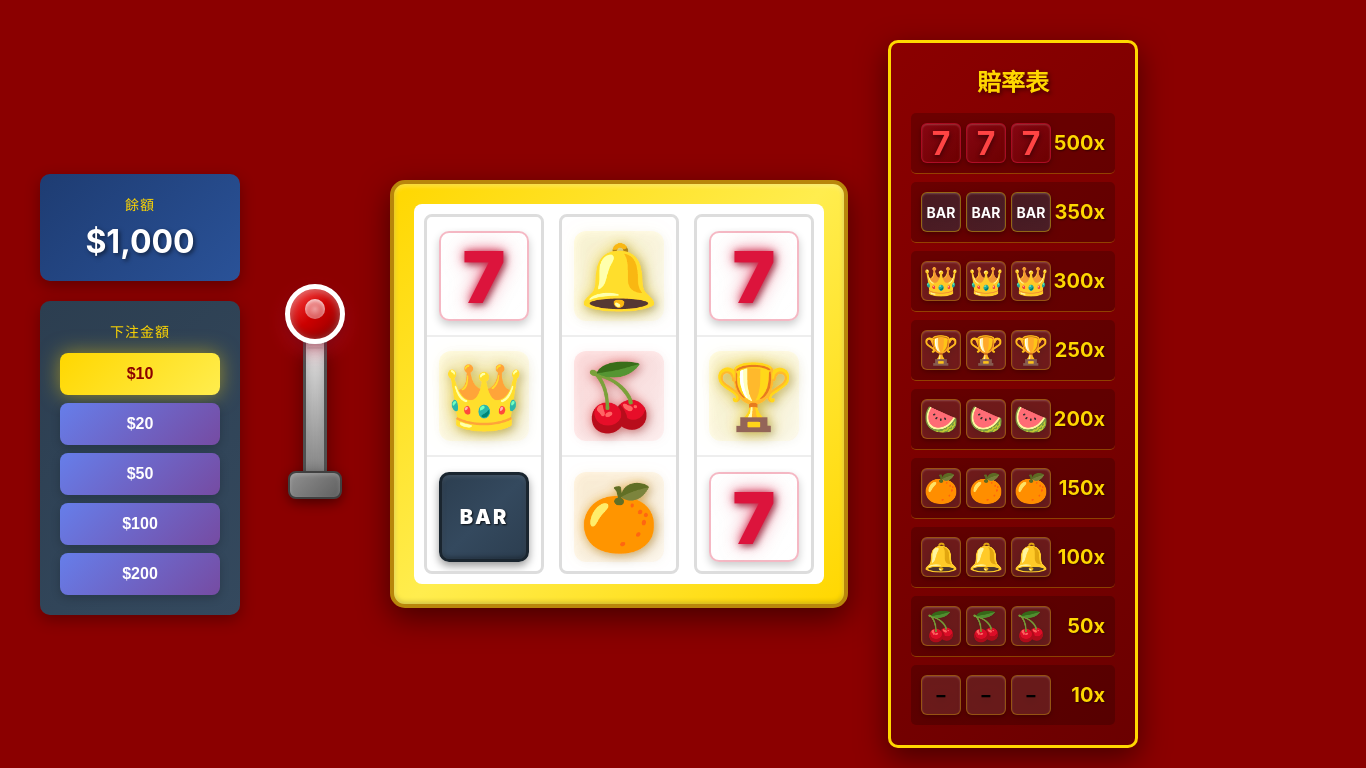
Test: SlotMachine › 應該在中獎時顯示中獎訊息、連線 UI 並增加餘額
The image size is (1366, 768).
expect the text "$1,000" is shown: met, box top-left (85, 222), bottom-right (195, 260)
Click the 1st button at {"x": 315, "y": 394}, box top-left (280, 284), bottom-right (350, 504)
Wait 5101 ms
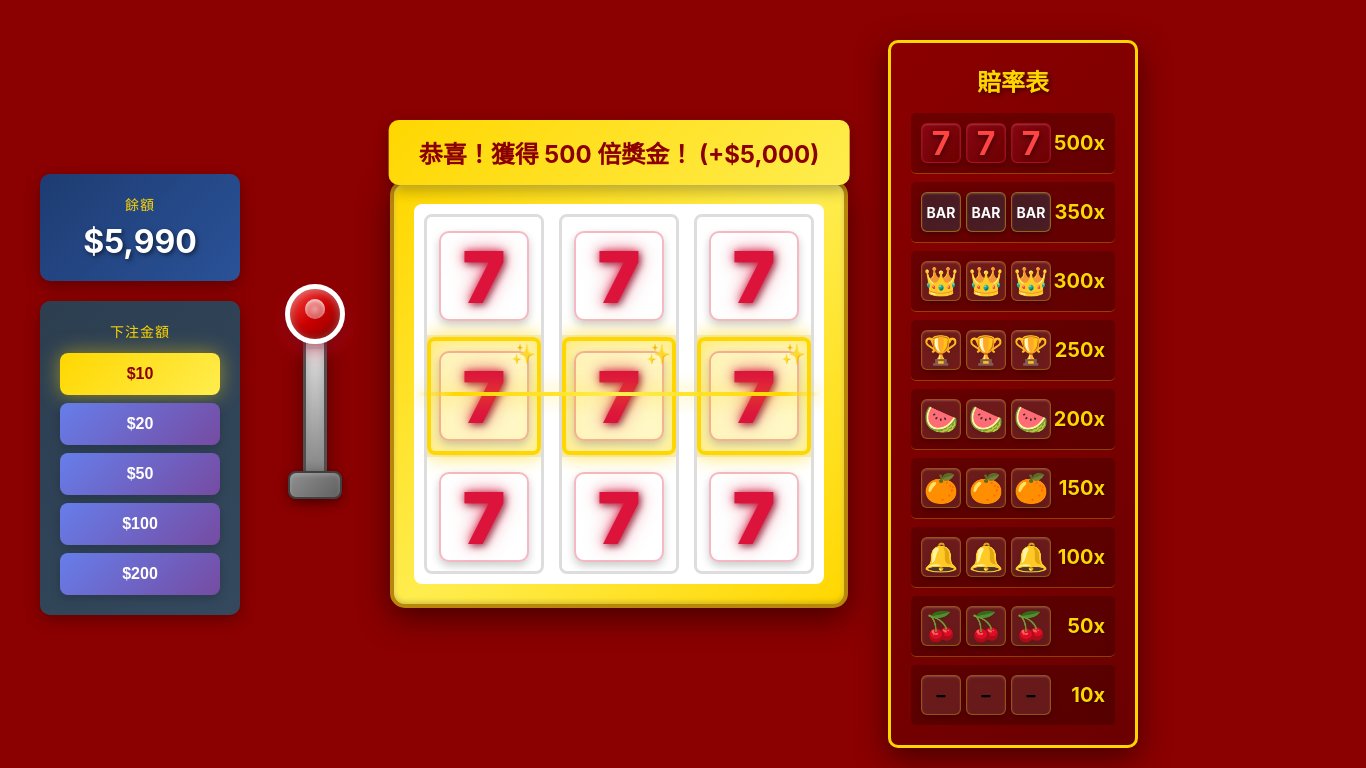
expect the text "恭喜！獲得 500 倍獎金！ (+$5,000)" is shown: met, box top-left (389, 120), bottom-right (849, 185)
